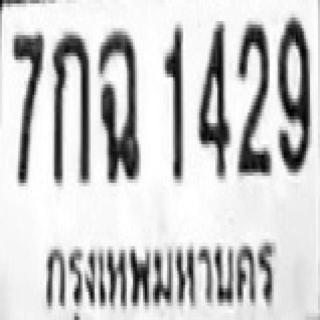A01: (50, 28, 89, 183)
A09: (97, 28, 139, 179)
N00: (276, 14, 308, 169)
N01: (162, 23, 182, 181)
N02: (234, 21, 269, 172)
N04: (197, 18, 227, 176)
N07: (11, 28, 43, 183)
N09: (276, 14, 308, 169)
P04: (36, 232, 280, 320)
